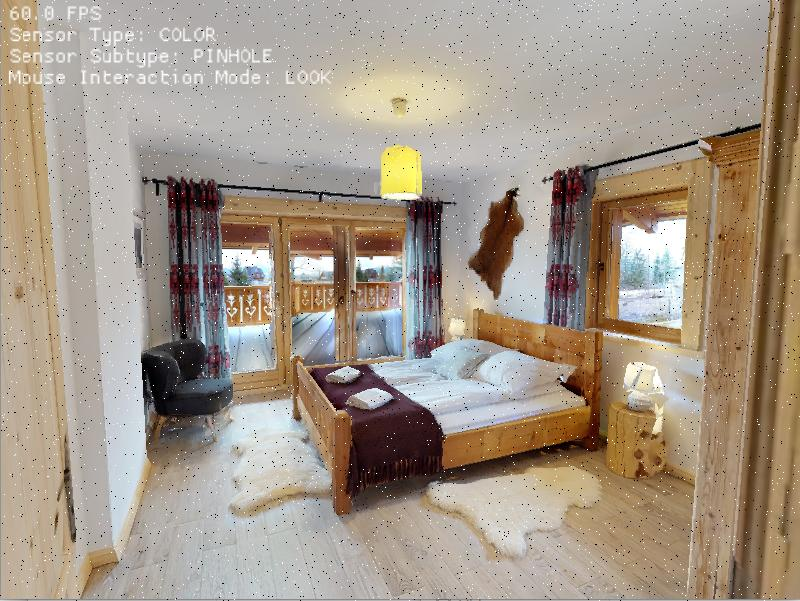bed: (287, 306, 614, 496)
sofa: (137, 336, 237, 442)
